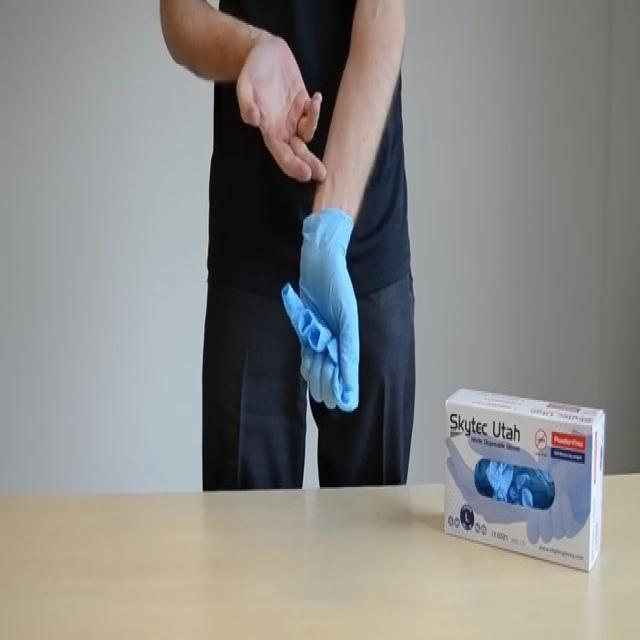Gloves: (282, 201, 374, 421)
